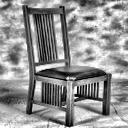chair_success: (17, 2, 118, 128)
